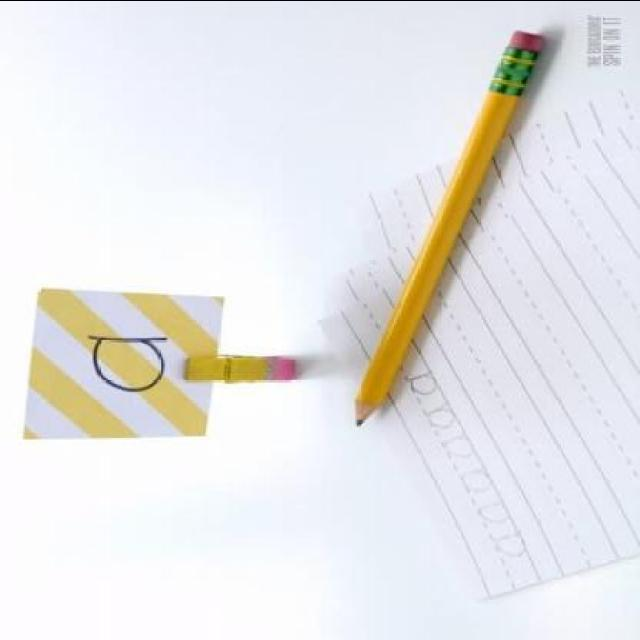Pencil: (342, 384, 390, 432)
